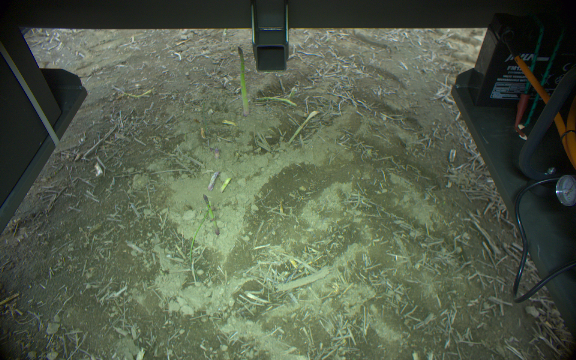aspa: (287, 109, 319, 146), (236, 45, 251, 116), (202, 194, 220, 235), (255, 94, 298, 106), (208, 170, 219, 191), (221, 176, 232, 193)
